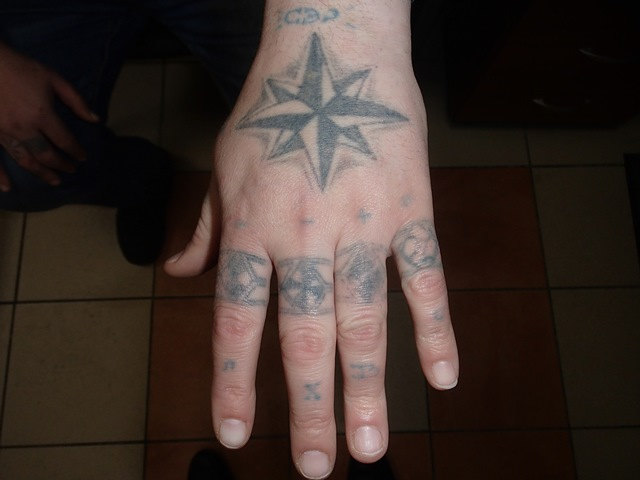tatu3_bukva: (352, 360, 380, 385), (298, 380, 324, 405), (215, 354, 241, 378), (428, 309, 453, 326)
tatu4_zvezda: (237, 34, 411, 193)
